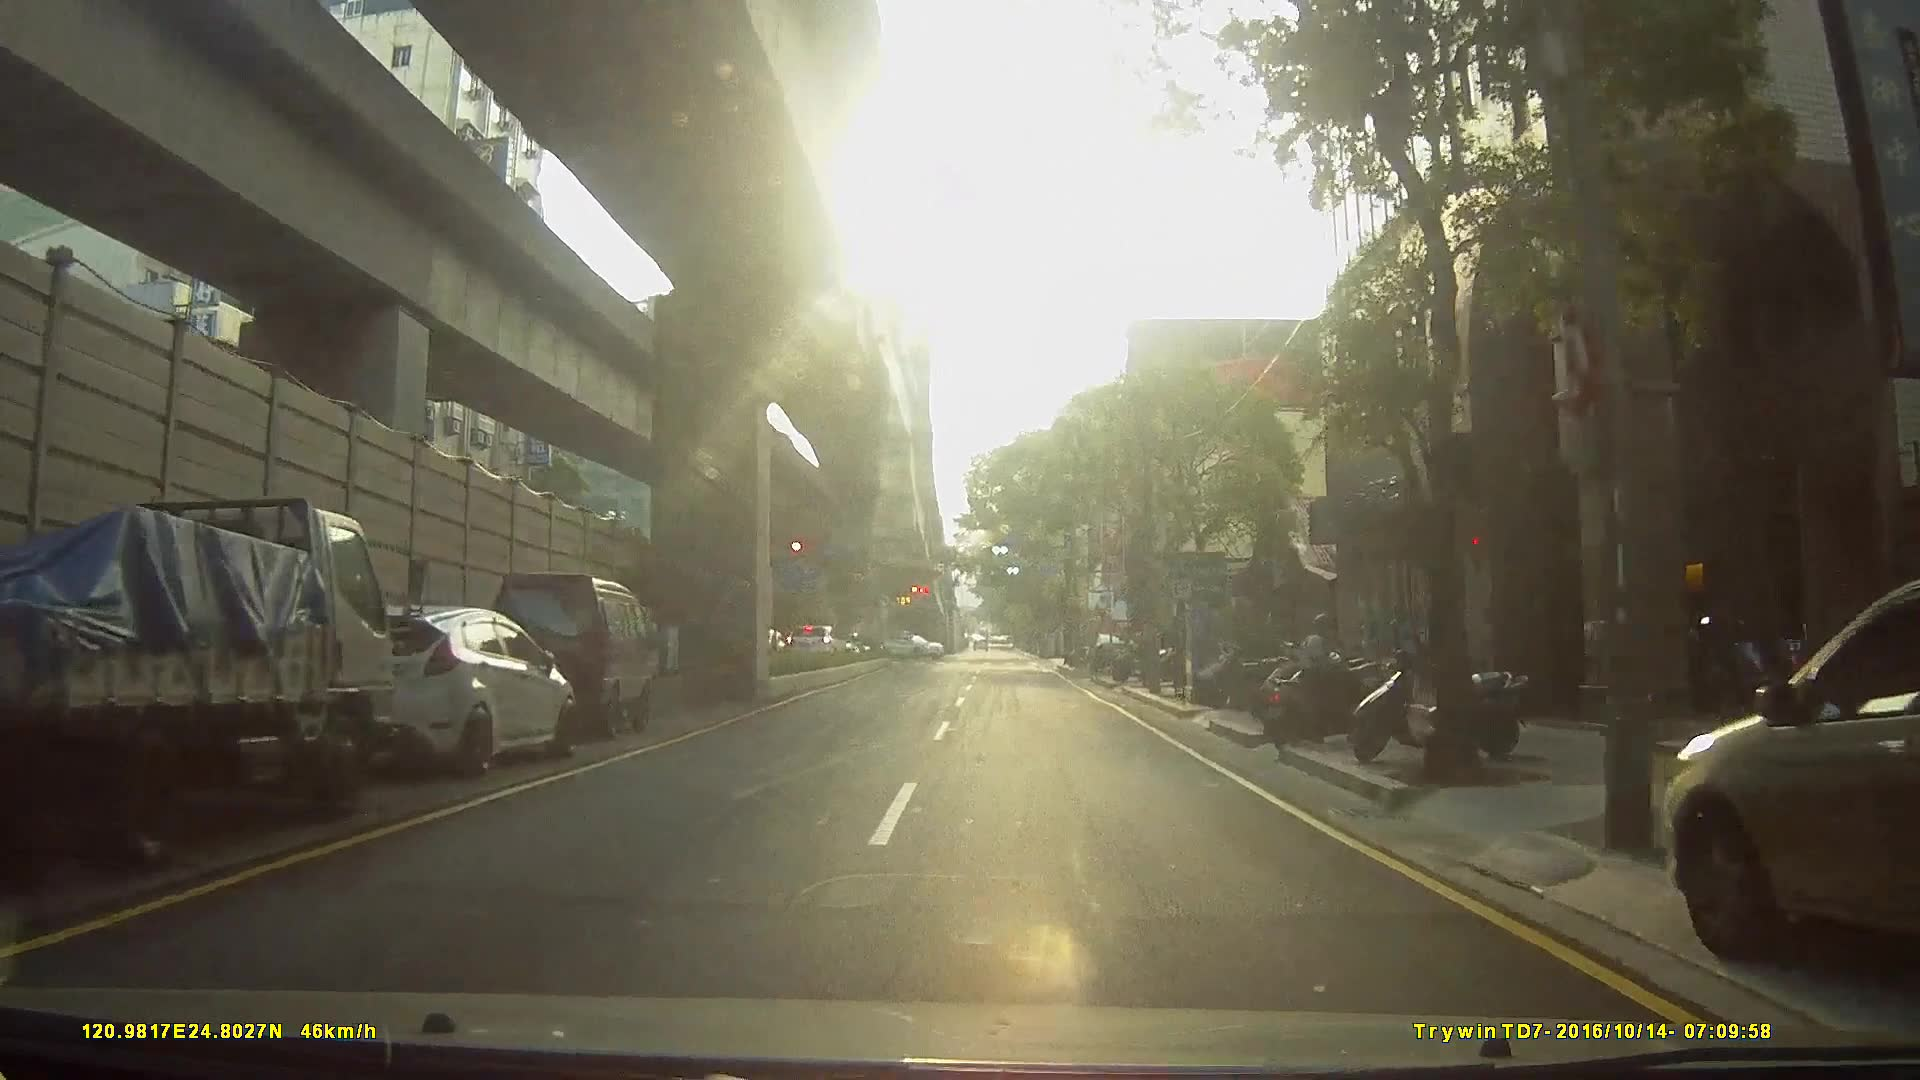rider: (1261, 608, 1394, 744)
vehicle: (4, 476, 444, 851), (1664, 588, 1920, 1000), (294, 591, 577, 781), (475, 566, 666, 739), (782, 621, 847, 662), (1080, 634, 1127, 674), (878, 634, 941, 661)
